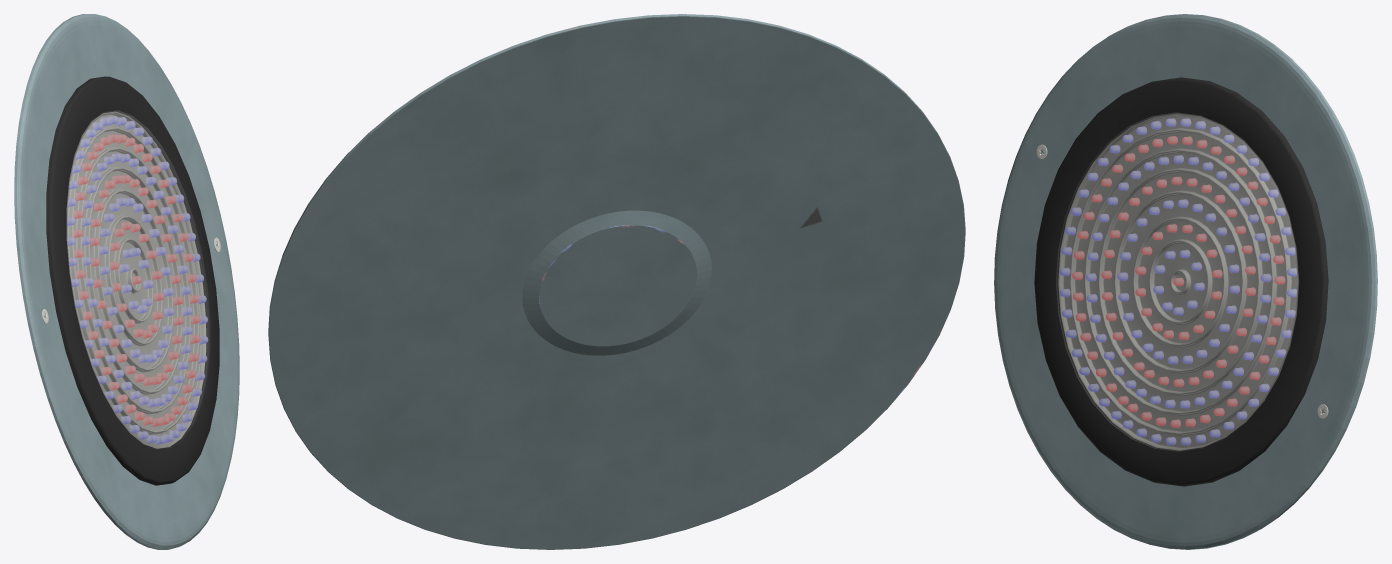
Rendered from pool_light.glb.
The picture shows the model from 3 angles, left to right: view 1: azimuth 30°, elevation 25°; view 2: azimuth 150°, elevation 25°; view 3: azimuth 270°, elevation 25°; orthographic projection. The views are drawn at different scales.
Visible parts, largest first — view 1: Object_4, Object_2, Object_3; view 2: Object_2; view 3: Object_4, Object_2, Object_3.
Part boxes in pixels (box(x1,y1,x2,y2)): Object_4: box(46, 76, 219, 485); Object_2: box(14, 14, 239, 549); Object_3: box(42, 111, 220, 448); Object_2: box(268, 14, 965, 549); Object_4: box(1034, 77, 1328, 486); Object_2: box(994, 14, 1377, 549); Object_3: box(1036, 113, 1328, 450).
Size of the model in its own units: 4.4 by 5.5 by 4.12.
1 material, 1 textured.
